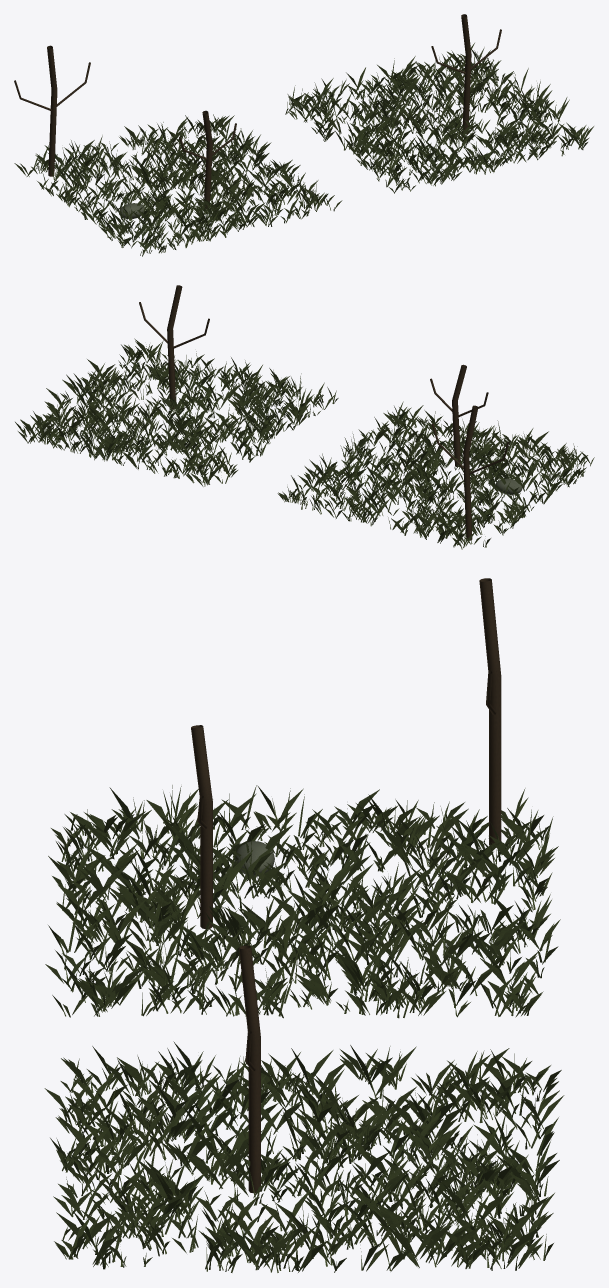
File: swamp-v1.glb
3 views of the same model, one above another, from view 1: azimuth 30°, elevation 25°; view 2: azimuth 150°, elevation 25°; view 3: azimuth 270°, elevation 25° (orthographic). The views are drawn at different scales.
Visible parts, largest first — view 1: Grass blades, Bare trunk.002, Bare trunk.001, Bare trunk; view 2: Grass blades, Bare trunk.002, Bare trunk.001, Bare trunk; view 3: Grass blades, Bare trunk.002, Bare trunk.001, Bare trunk.
Boxes of the visible parts, x1,y1,x2,y2 form: Grass blades: (14, 43, 593, 256); Bare trunk.002: (14, 45, 90, 176); Bare trunk.001: (431, 14, 501, 133); Bare trunk: (179, 110, 236, 208); Grass blades: (15, 338, 594, 549); Bare trunk.002: (432, 405, 509, 540); Bare trunk.001: (139, 285, 209, 409); Bare trunk: (430, 364, 488, 466); Grass blades: (44, 785, 564, 1272); Bare trunk.002: (479, 578, 501, 847); Bare trunk.001: (239, 945, 260, 1193); Bare trunk: (191, 725, 212, 929).
Size of what is drawn, in the model's own units: 23.47 by 6.17 by 10.83.
Materials: 3 (3 with a texture image).
